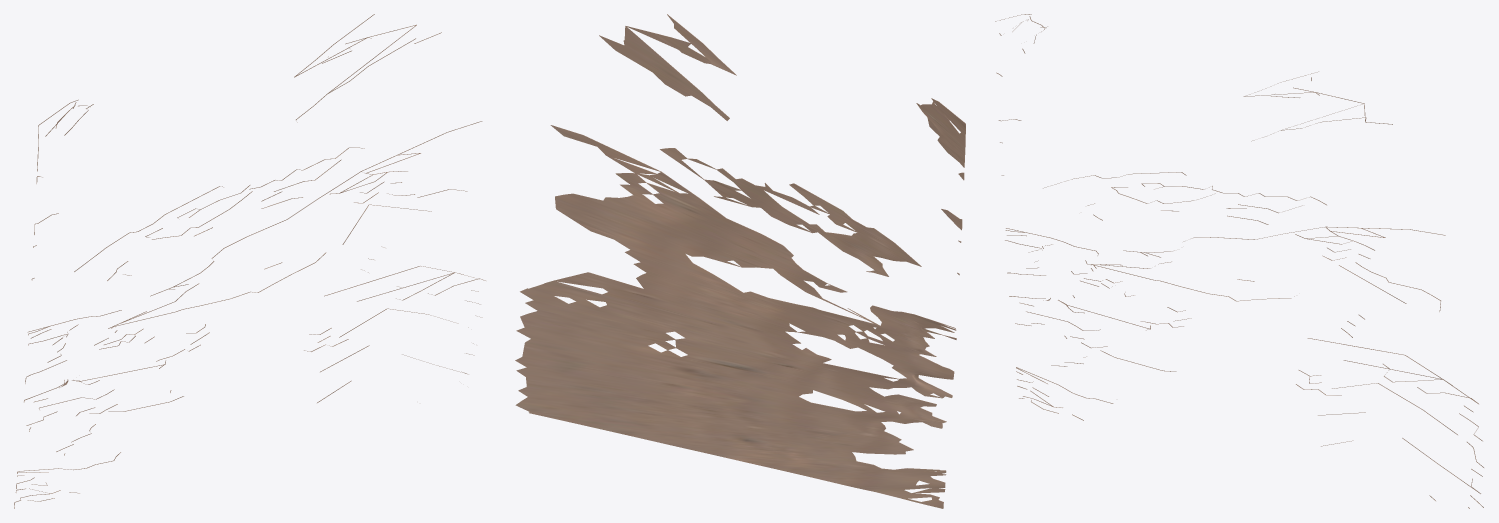
The picture shows the model from 3 angles, left to right: view 1: azimuth 30°, elevation 25°; view 2: azimuth 150°, elevation 25°; view 3: azimuth 330°, elevation 25°; orthographic projection. The views are drawn at different scales.
Bounding box in the file's own units: 54.75 × 48.87 × 7.35.
Materials: 1 (1 with a texture image).
